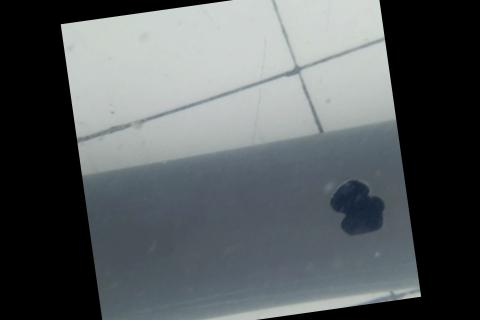kebocoran: (324, 173, 388, 238)
